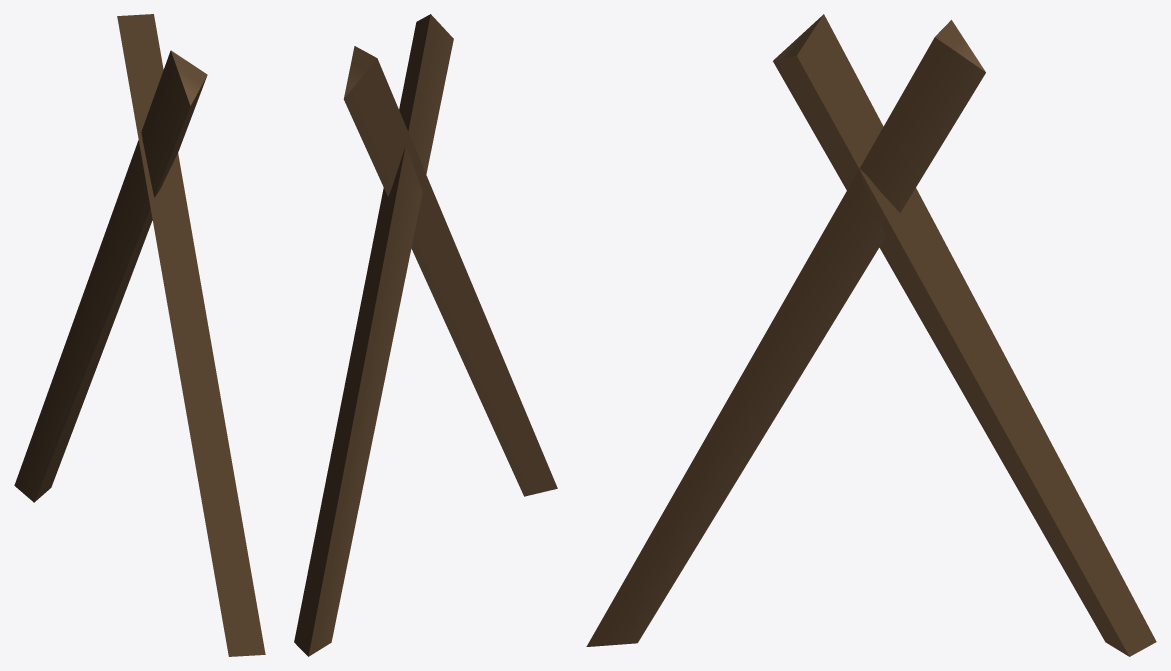
Rendered from Rack.fbx.
3 renders of one model, left to right at view 1: azimuth 30°, elevation 25°; view 2: azimuth 150°, elevation 25°; view 3: azimuth 270°, elevation 25°, orthographic. The views are drawn at different scales.
Visible parts, largest first — view 1: polySurface202; view 2: polySurface202; view 3: polySurface202.
Boxes of the visible parts, bbox=[...] form: polySurface202: bbox=[14, 14, 265, 656]; polySurface202: bbox=[294, 14, 557, 656]; polySurface202: bbox=[586, 14, 1156, 656].
Size of the model in its own units: 23.94 by 192 by 155.
